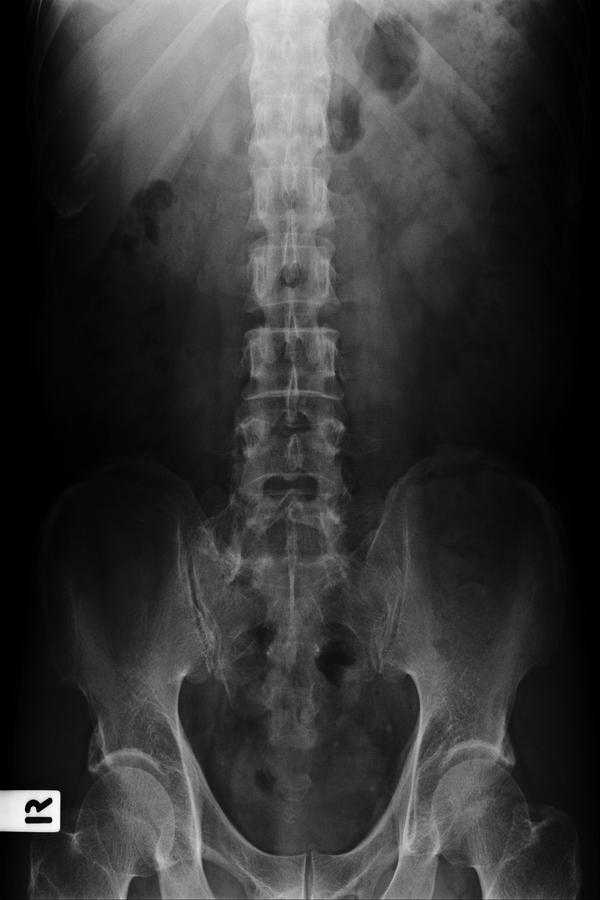not lumbar scoliosis: (219, 191, 361, 576)
